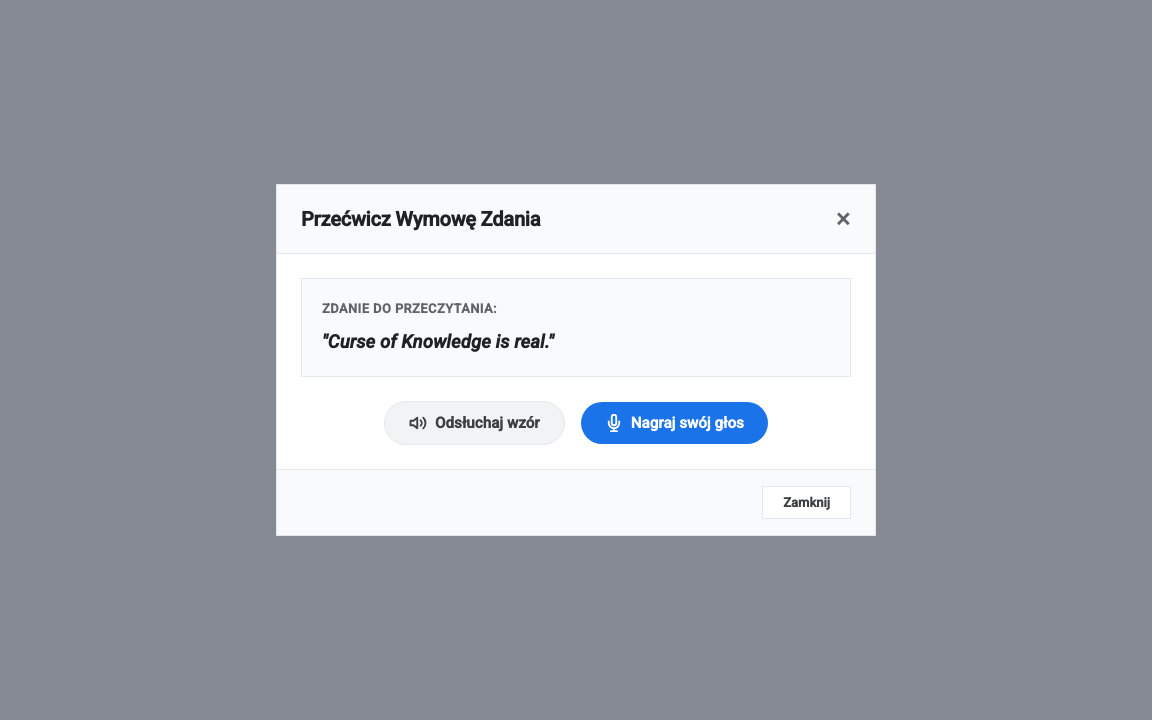
Test: PronunciationPracticeModal › clicking play pronunciation instantiates Audio
The image size is (1152, 720).
Click the button "Odsłuchaj wzór": (474,422) [384, 400, 565, 444]
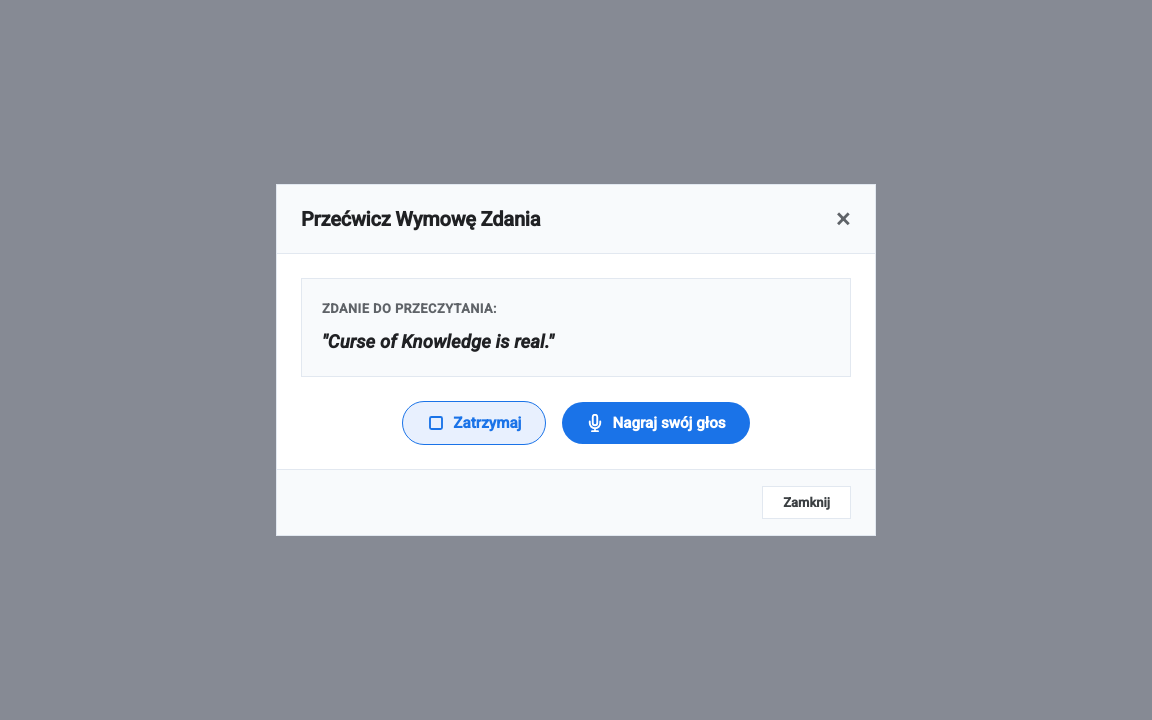
Expected: the button "Zatrzymaj" is shown, [402, 400, 546, 444]
